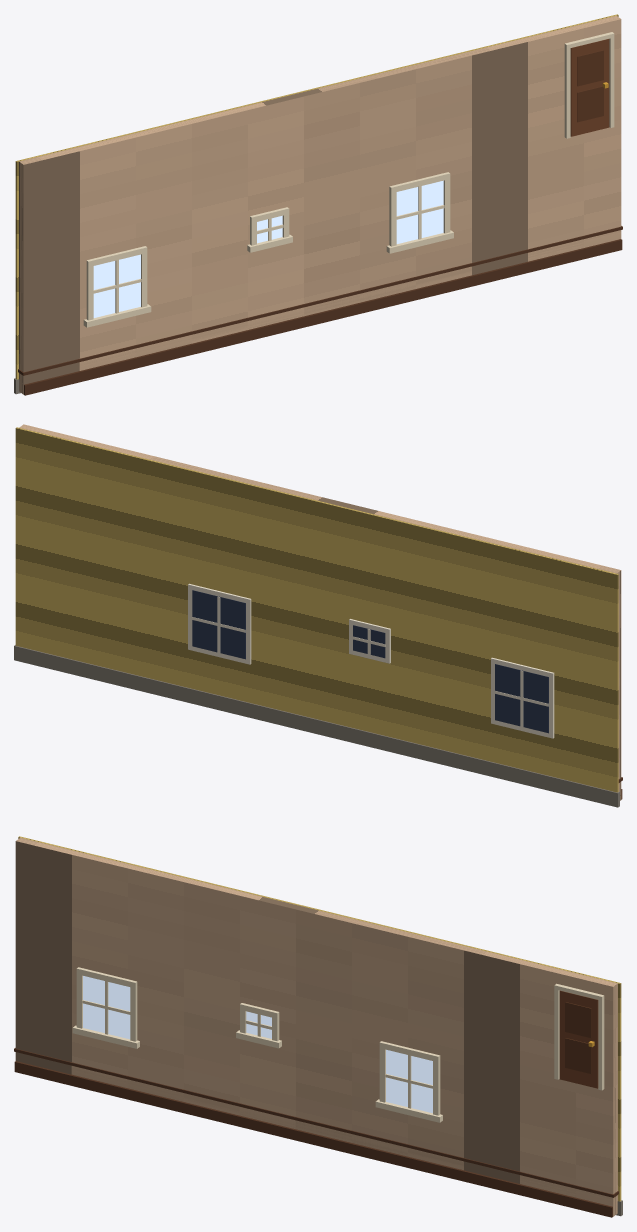
File: back.glb
3 renders of one model, top to bottom at view 1: azimuth 30°, elevation 25°; view 2: azimuth 150°, elevation 25°; view 3: azimuth 330°, elevation 25°, orthographic.
Parts seen in each view (by area): view 1: Box1, Box2, Box42, Box43, Box13, Box24, slab, Box3, slab_panel2, slab_panel, Box39, Box40 (+2 smaller); view 2: Box3, Box4, Box1, Box17, Box6, Box5, Box16, Box28, Box27; view 3: Box1, Box2, Box42, Box43, Box24, Box13, slab, Box3, slab_panel2, slab_panel, Box40, Box39 (+2 smaller).
Part boxes in pixels (x1,y1,x2,y2): Box1: (19,15,621,394); Box2: (24,239,622,395); Box42: (19,230,621,394); Box43: (18,226,622,375); Box13: (396,180,443,243); Box24: (93,254,140,317); slab: (570,39,609,136); Box3: (15,14,618,379); slab_panel2: (577,50,603,86); slab_panel: (577,86,603,122); Box39: (564,42,570,138); Box40: (609,32,614,127); Box3: (15,427,618,792); Box4: (14,645,619,807); Box1: (19,424,621,800); Box17: (495,664,548,733); Box6: (192,590,245,659); Box5: (188,583,251,664); Box16: (491,657,554,738); Box28: (353,625,385,658); Box27: (349,619,390,663); Box1: (15,837,617,1216); Box2: (14,1061,612,1217); Box42: (15,1052,617,1215); Box43: (14,1048,618,1197); Box24: (83,976,130,1039); Box13: (386,1049,432,1113); slab: (559,990,598,1088); Box3: (18,836,621,1201); slab_panel2: (565,1002,591,1037); slab_panel: (565,1038,591,1073); Box40: (598,994,604,1090); Box39: (554,983,559,1079).
Size of the model in its own units: 11.27 by 4.14 by 0.373.
11 materials, 2 textured.
